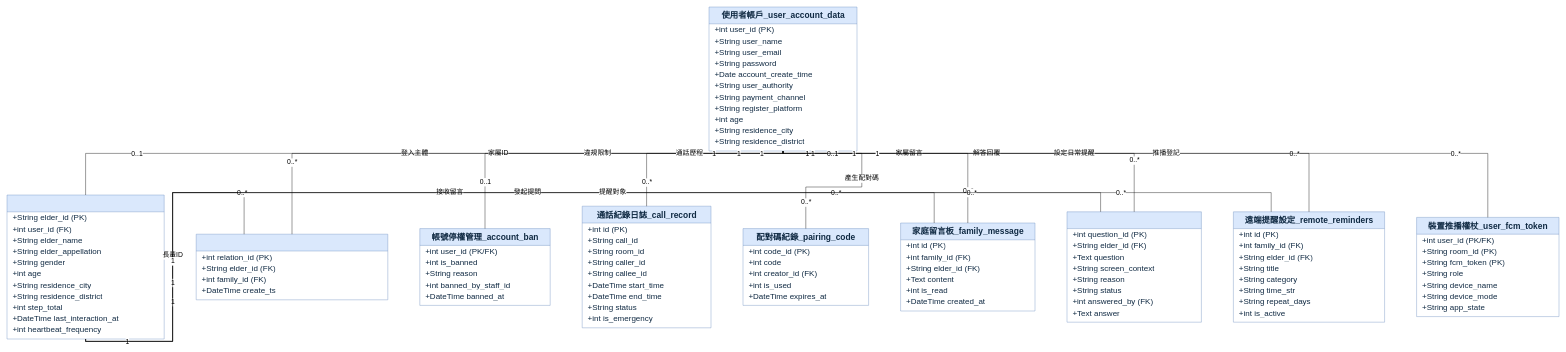
The diagram is 1566 pixels wide and 352 high, and some of its shapes have lost their labels. The box of each missing label's shape, as (x1, y1, x2, y2) in pixels:
家屬長輩關聯_family_elder_relationship: (196, 234, 388, 300)
長者個人檔案_elder_profile: (7, 195, 164, 339)
長輩提問單_elder_question: (1067, 211, 1201, 322)
